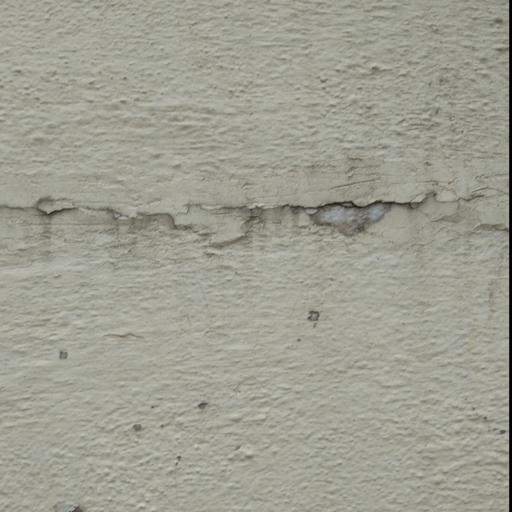minor_crack: (1, 177, 509, 256)
